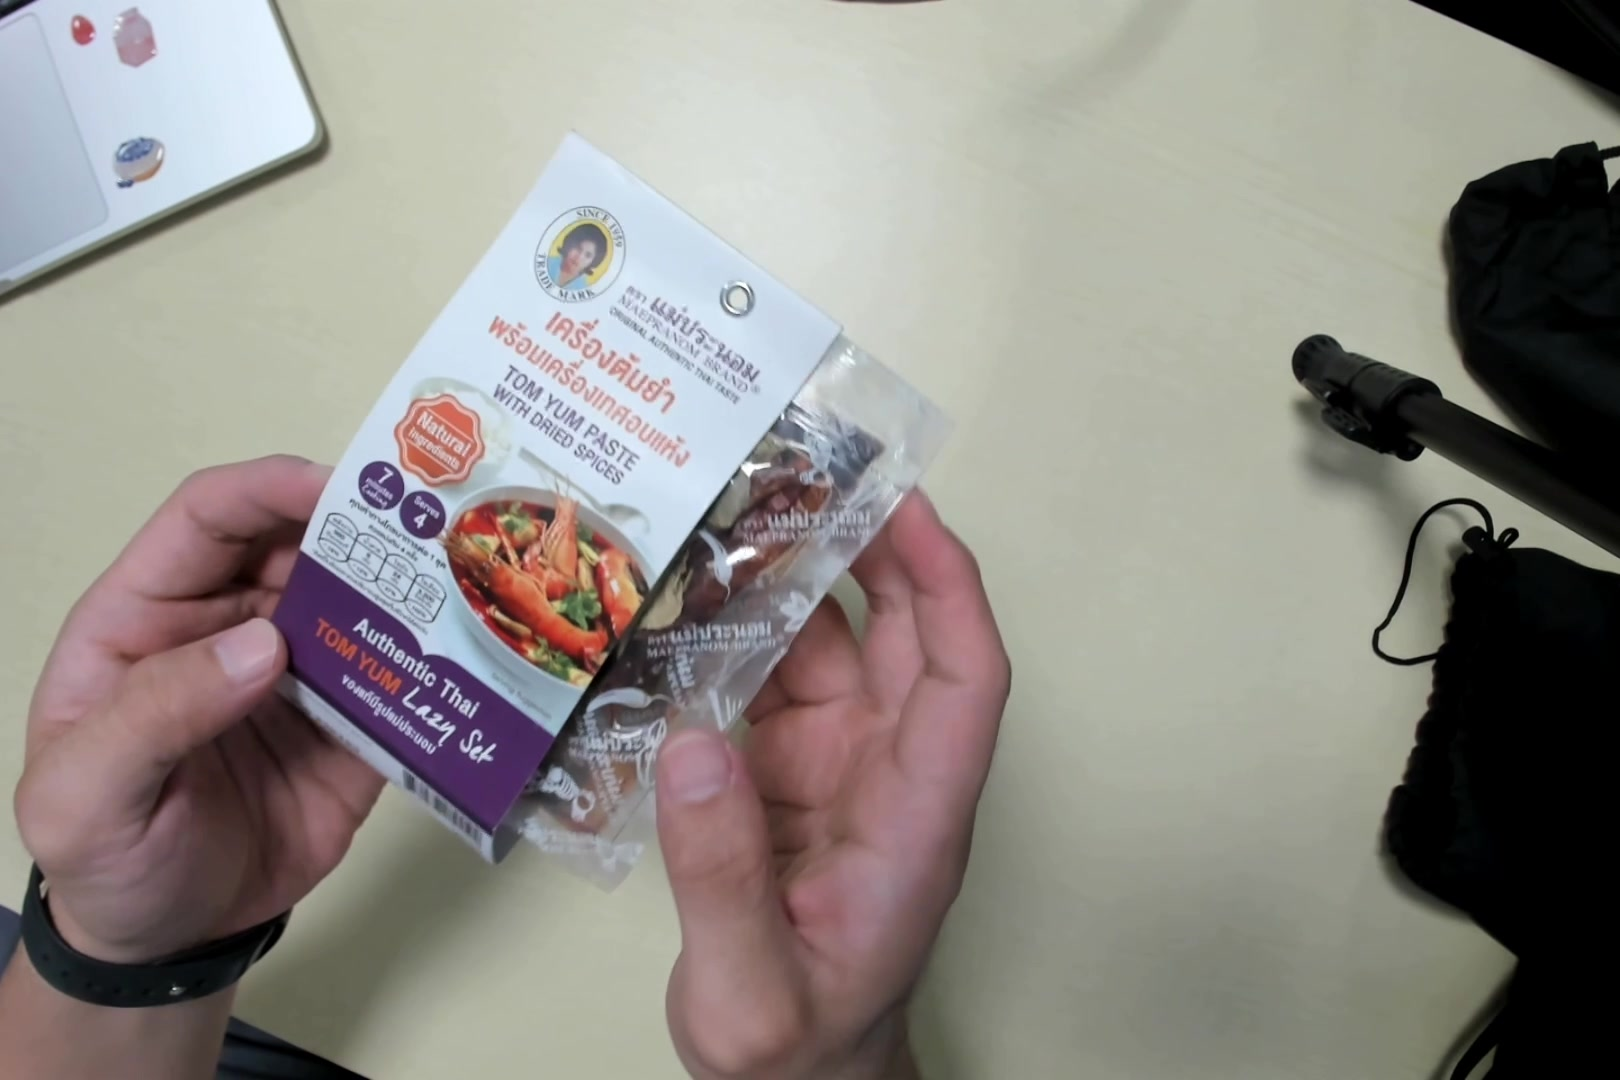OtherSauceDressingSoupBaswPaste_0-99g_Halal_NonHealthy: (269, 140, 943, 887)
